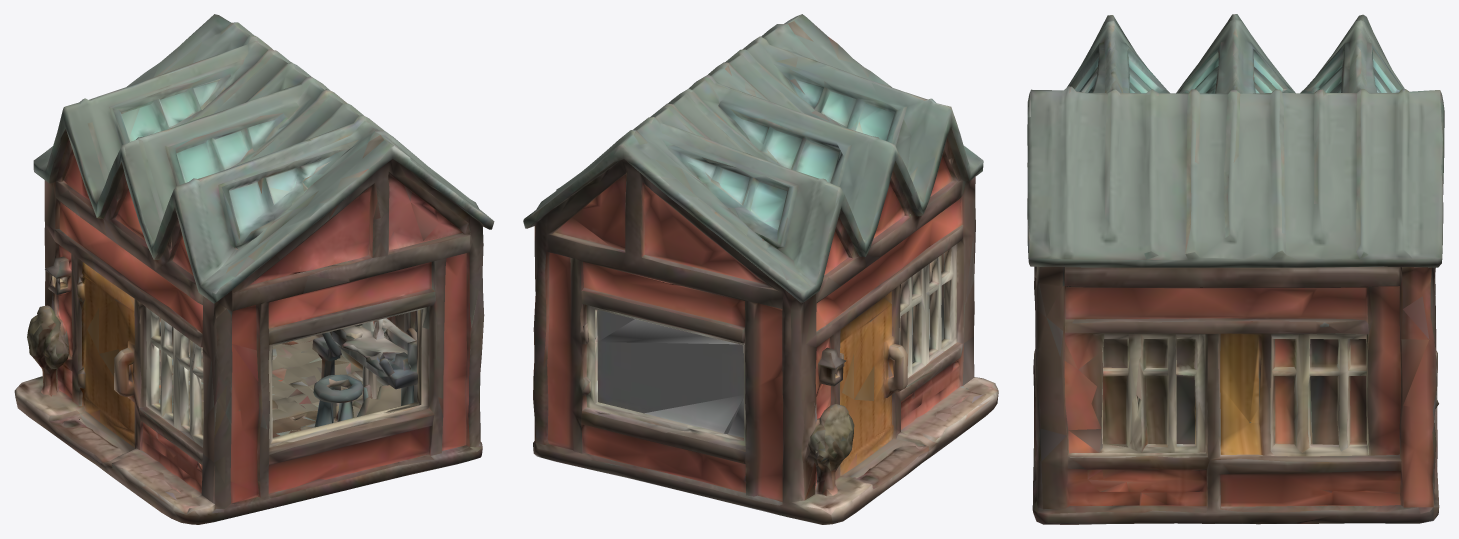
Rendered from sc-home-studio.glb.
The picture shows the model from 3 angles, left to right: view 1: azimuth 30°, elevation 25°; view 2: azimuth 150°, elevation 25°; view 3: azimuth 270°, elevation 25°; orthographic projection. The views are drawn at different scales.
Visible parts, largest first — view 1: geometry_0; view 2: geometry_0; view 3: geometry_0.
Boxes of the visible parts, x1,y1,x2,y2 form: geometry_0: [14, 14, 494, 524]; geometry_0: [523, 14, 998, 524]; geometry_0: [1027, 14, 1444, 524].
Bounding box in the file's own units: 0.9597 × 1 × 0.9813.
1 material, 1 textured.
